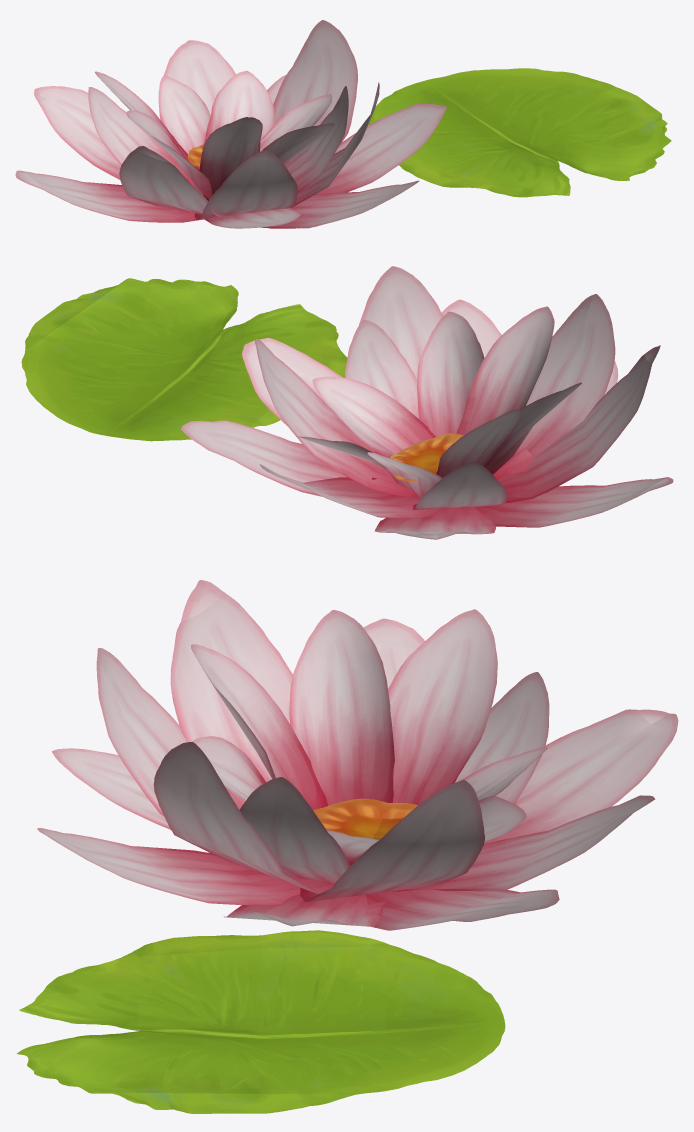
Rendered from Water Lily.fbx.
3 renders of one model, top to bottom at view 1: azimuth 30°, elevation 25°; view 2: azimuth 150°, elevation 25°; view 3: azimuth 270°, elevation 25°, orthographic. The views are drawn at different scales.
Parts seen in each view (by area): view 1: Plane051, Plane002; view 2: Plane051, Plane002; view 3: Plane051, Plane002.
Boxes of the visible parts, x1,y1,x2,y2 form: Plane051: (15,20,446,228); Plane002: (368,68,671,197); Plane051: (181,266,673,539); Plane002: (21,278,347,441); Plane051: (37,580,678,930); Plane002: (17,930,505,1113).
Bounding box in the file's own units: 27.61 × 6.82 × 17.24.
Materials: 2 (2 with a texture image).
